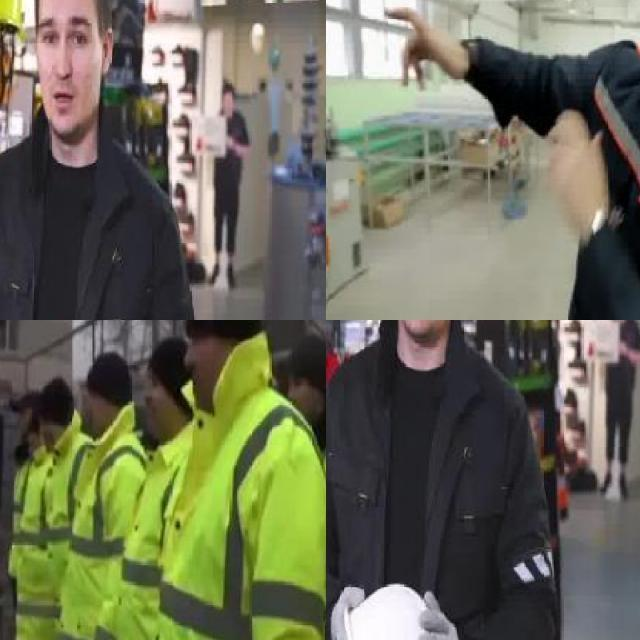apron: (327, 579, 370, 640), (416, 587, 465, 640)
